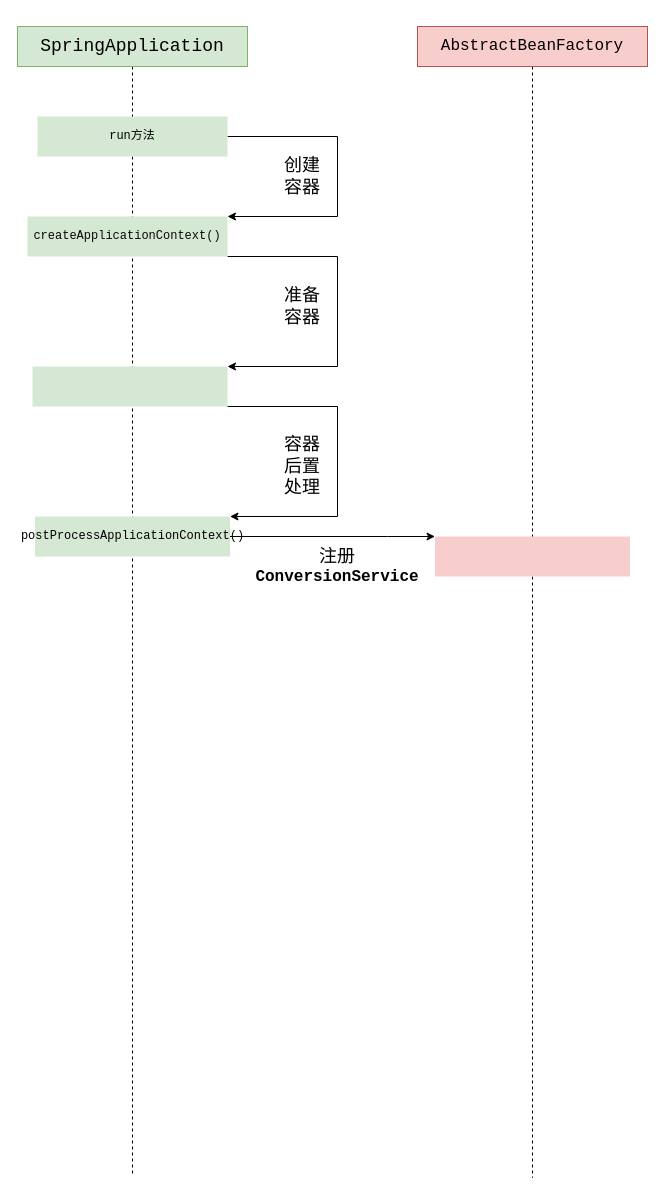
Some shapes in this 665 by 1196 pixel diagram are drawn without their labels. The centre of each missing label's shape, as x and y in pixels:
prepareContext(): pixel 129 386
setConversionService(): pixel 532 556
